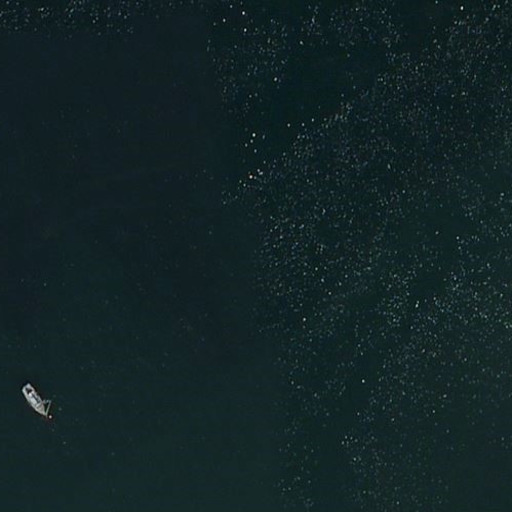ship: (16, 380, 56, 423)
